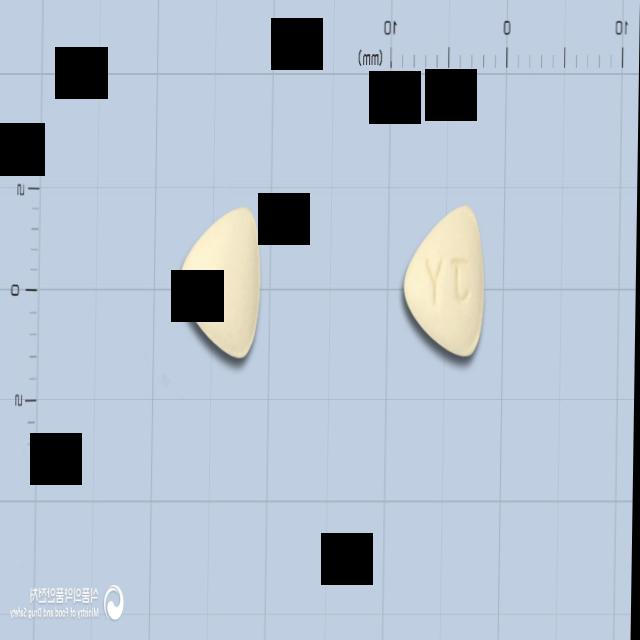Durova: (403, 202, 488, 359), (179, 205, 264, 360)
